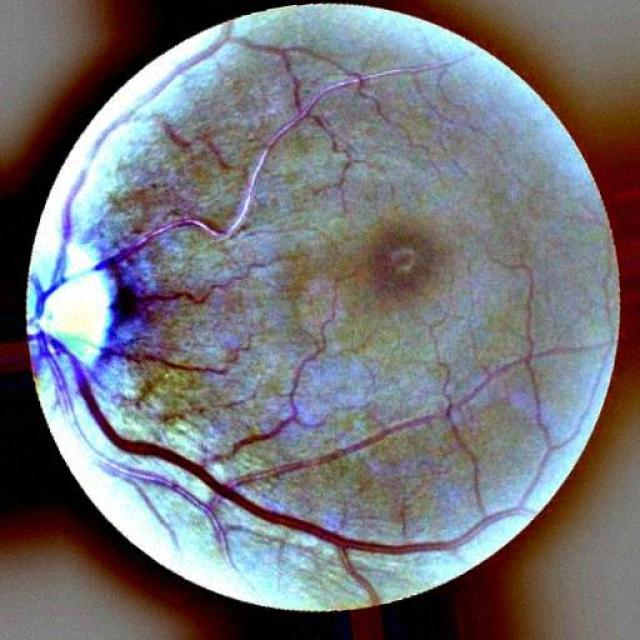Macula: (368, 224, 439, 292)
Nerves: (28, 108, 522, 608), (90, 40, 451, 329), (231, 343, 324, 454), (139, 38, 236, 105), (95, 328, 228, 375)
Optic Disk: (25, 232, 115, 368)
